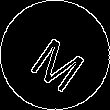M_NE: (22, 21, 88, 89)
